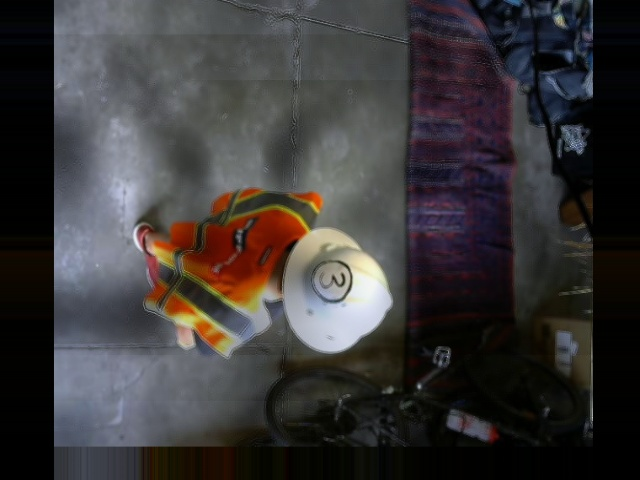three: (313, 259, 352, 302)
